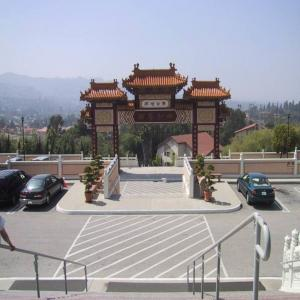Vehicle-registration-plate: (262, 192, 268, 197)
